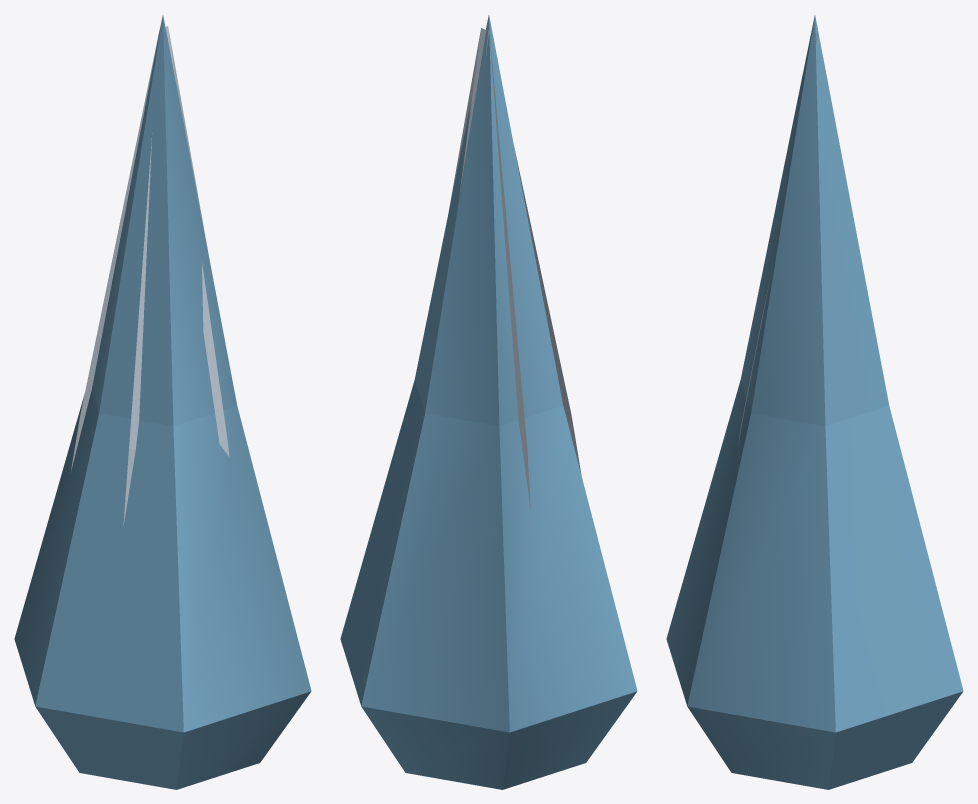
The model's file is 2077_IcicleSpike_Action_SingleScreenNormalIceSpike.fbx.
3 views of the same model, side by side, from view 1: azimuth 30°, elevation 25°; view 2: azimuth 150°, elevation 25°; view 3: azimuth 270°, elevation 25° (orthographic).
Visible parts, largest first — view 1: PART_SingleScreenNormalIceSpike, PART_ScreenSpikeColdFacet_3, PART_ScreenSpikeColdFacet_2, PART_ScreenSpikeColdFacet_4; view 2: PART_SingleScreenNormalIceSpike, PART_ScreenSpikeColdFacet_2, PART_ScreenSpikeColdFacet_3, PART_ScreenSpikeColdFacet_1; view 3: PART_SingleScreenNormalIceSpike.
Part boxes in pixels (box(x1,y1,x2,y2)): PART_SingleScreenNormalIceSpike: box(14, 15, 311, 789); PART_ScreenSpikeColdFacet_3: box(123, 29, 159, 526); PART_ScreenSpikeColdFacet_2: box(70, 30, 159, 472); PART_ScreenSpikeColdFacet_4: box(165, 26, 229, 456); PART_SingleScreenNormalIceSpike: box(340, 15, 637, 789); PART_ScreenSpikeColdFacet_2: box(485, 29, 530, 508); PART_ScreenSpikeColdFacet_3: box(514, 149, 581, 475); PART_ScreenSpikeColdFacet_1: box(459, 28, 489, 195); PART_SingleScreenNormalIceSpike: box(666, 15, 963, 789).
Bounding box in the file's own units: 92.81 × 235 × 86.44.
